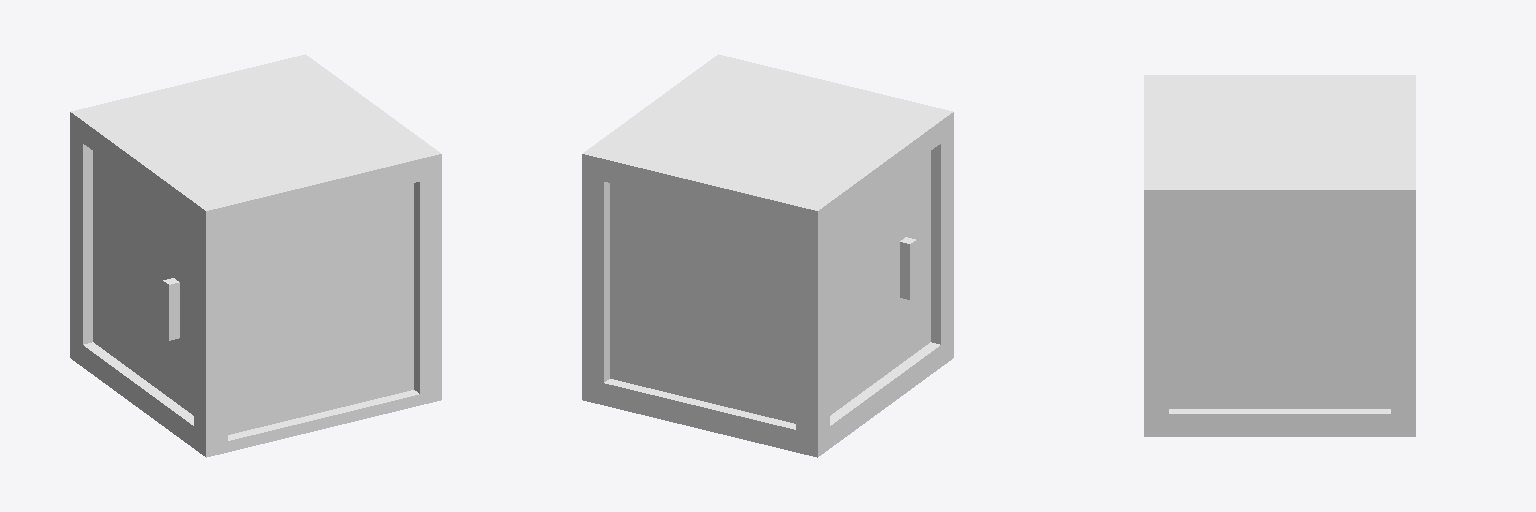
File: Bedside_table.obj
3 views of the same model, side by side, from view 1: azimuth 30°, elevation 25°; view 2: azimuth 150°, elevation 25°; view 3: azimuth 270°, elevation 25° (orthographic).
Visible parts, largest first — view 1: object 1; view 2: object 1; view 3: object 1.
Boxes of the visible parts, box(x1,y1,x2,y2) form: object 1: box(70, 54, 441, 457); object 1: box(582, 54, 953, 457); object 1: box(1144, 75, 1415, 436).
Bounding box in the file's own units: 2.2 × 2.2 × 2.2.